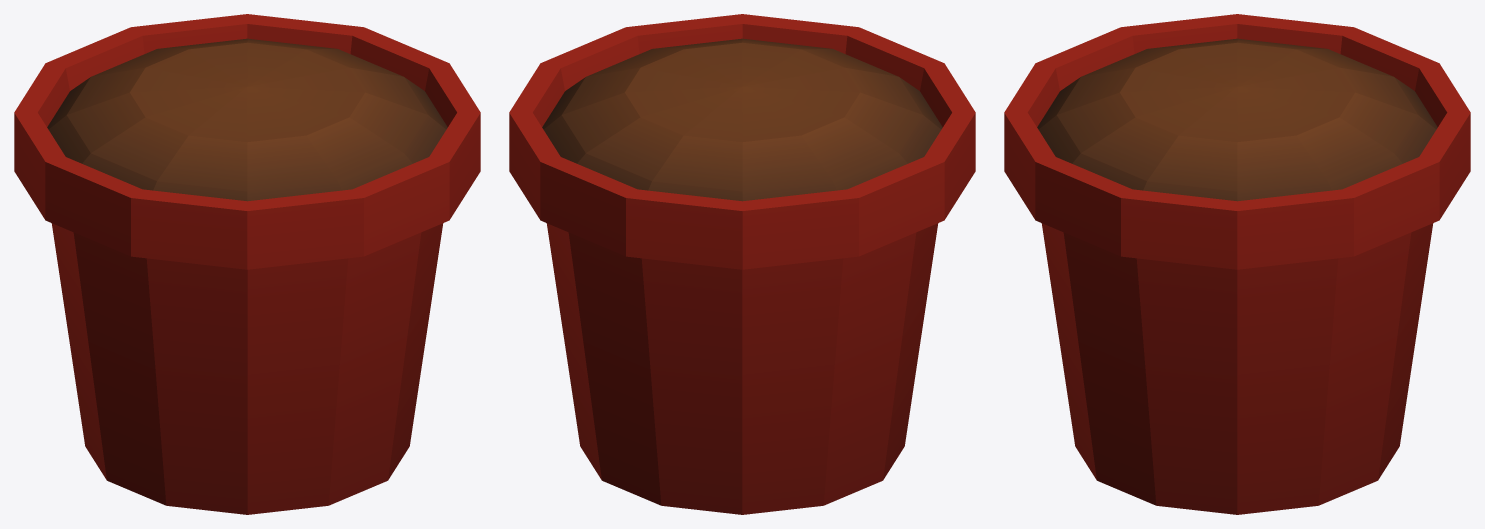
Rendered from Prop_Flowerpot_02.obj.
The picture shows the model from 3 angles, left to right: view 1: azimuth 30°, elevation 25°; view 2: azimuth 150°, elevation 25°; view 3: azimuth 270°, elevation 25°; orthographic projection.
Visible parts, largest first — view 1: Prop_Flowerpot_02; view 2: Prop_Flowerpot_02; view 3: Prop_Flowerpot_02.
Part boxes in pixels (bbox=[...]): Prop_Flowerpot_02: bbox=[14, 14, 480, 514]; Prop_Flowerpot_02: bbox=[509, 14, 975, 514]; Prop_Flowerpot_02: bbox=[1004, 14, 1470, 514].
Size of the model in its own units: 0.19 by 0.1616 by 0.19.
Materials: 1 (1 with a texture image).
